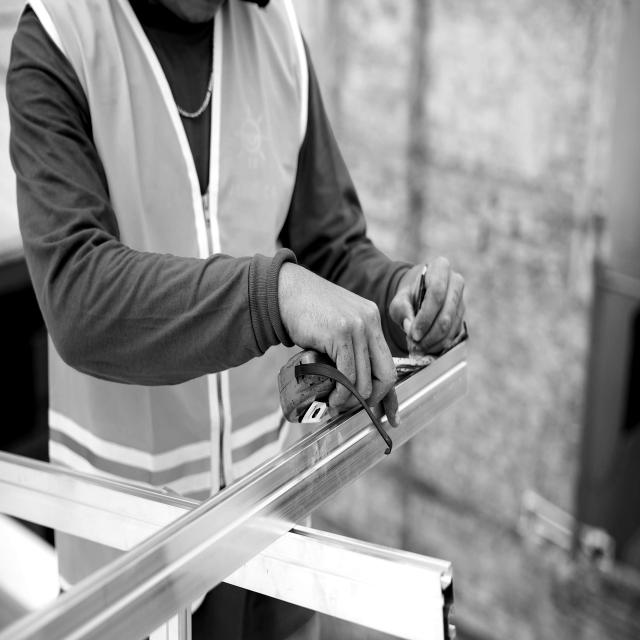Vest: (31, 3, 318, 531)
